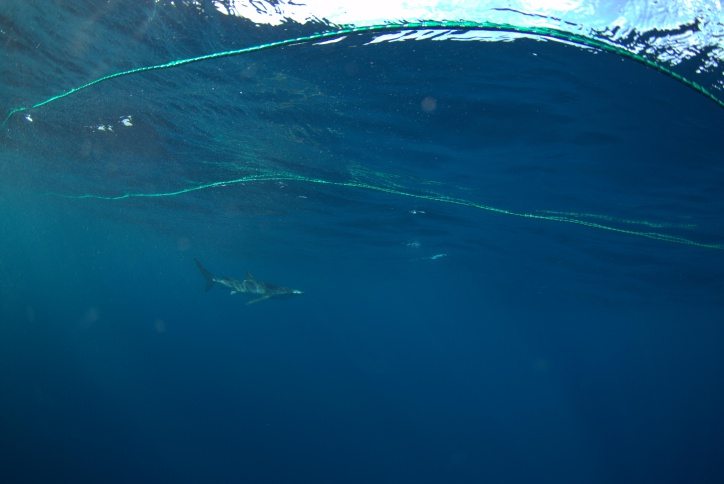Azul: (176, 245, 340, 329)
